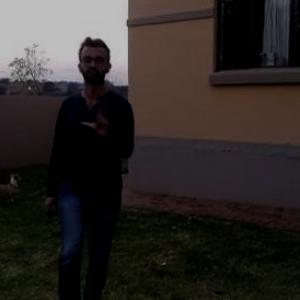land_hand: (79, 93, 121, 139)
